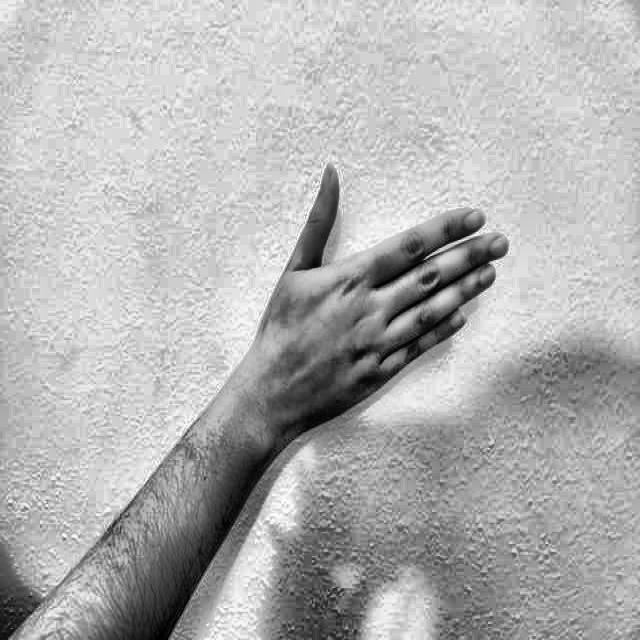Aa: (243, 148, 529, 468)
